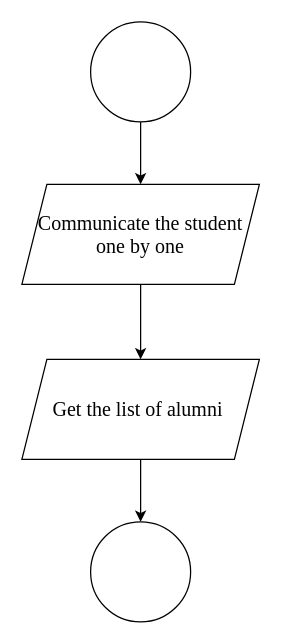
This 281x644 diagram has some shape labels left out. Here are the shapes that lost their labels. From the top down, the box of each, then its label:
(89, 21, 191, 122): START
(89, 521, 191, 622): END
